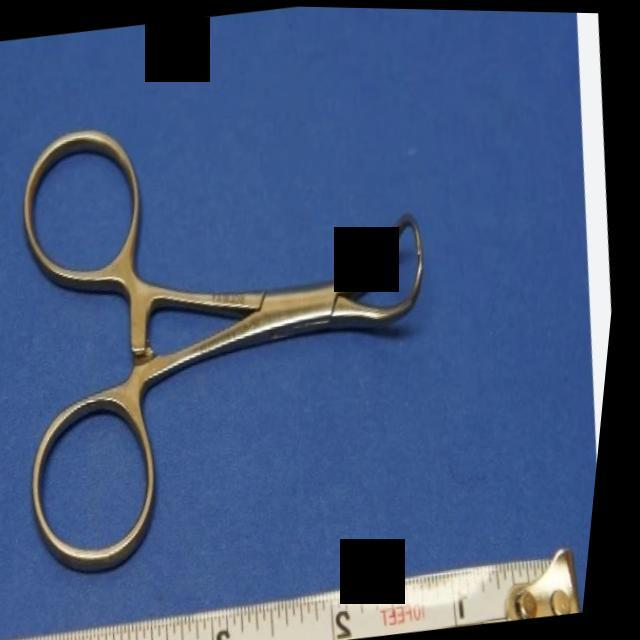Backhaus Towel Clamp: (0, 76, 482, 595)
